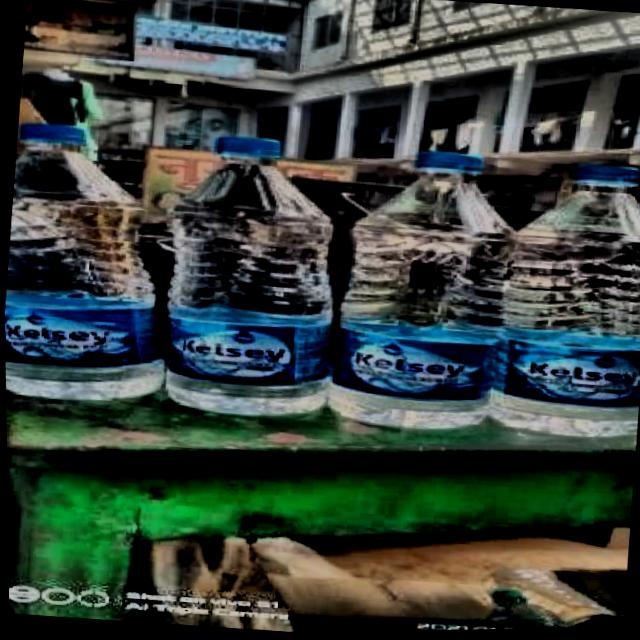Bottles: (145, 78, 363, 450), (323, 110, 522, 449)
